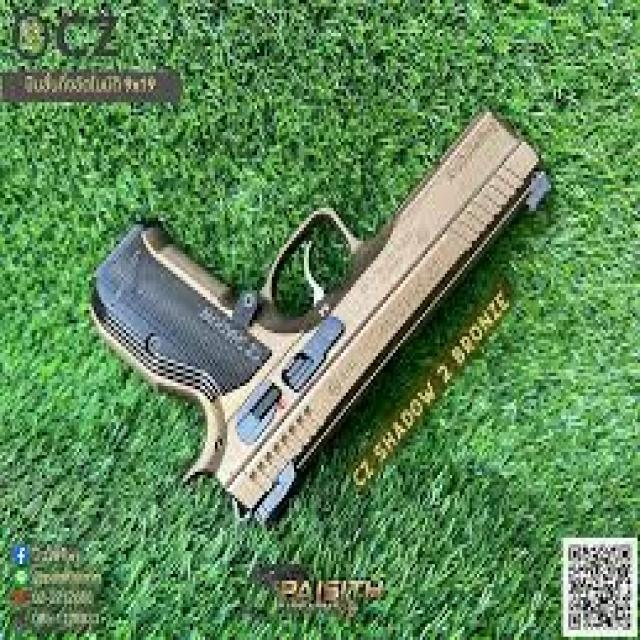semi automatic: (75, 88, 559, 535)
